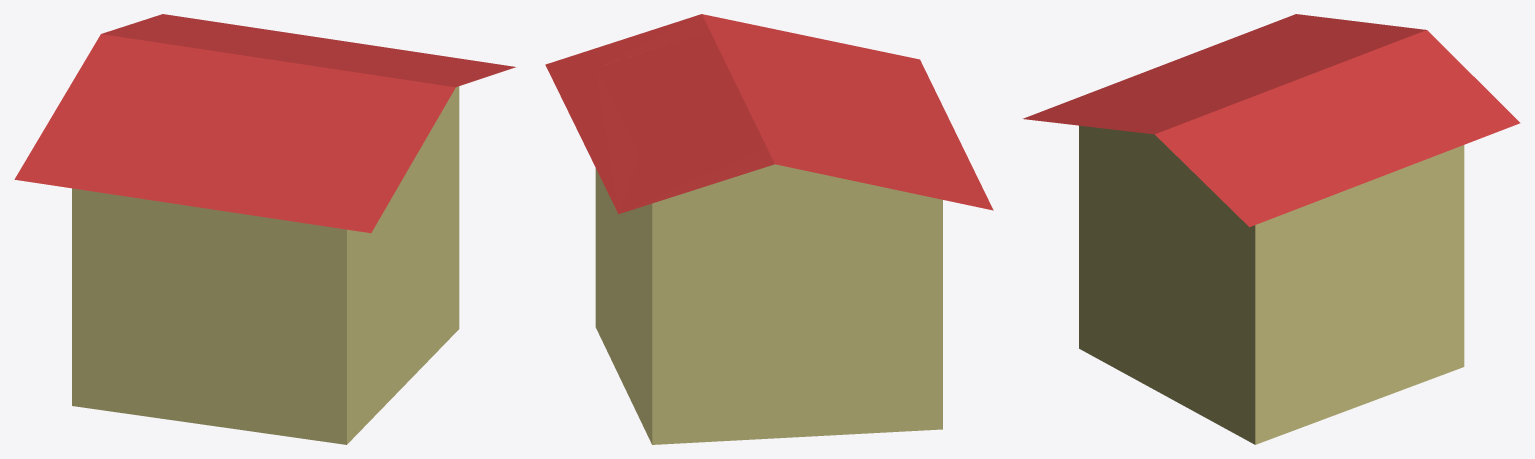
The picture shows the model from 3 angles, left to right: view 1: azimuth 30°, elevation 25°; view 2: azimuth 150°, elevation 25°; view 3: azimuth 270°, elevation 25°; orthographic projection. The views are drawn at different scales.
Size of the model in its own units: 9.64 by 8.97 by 5.7.
